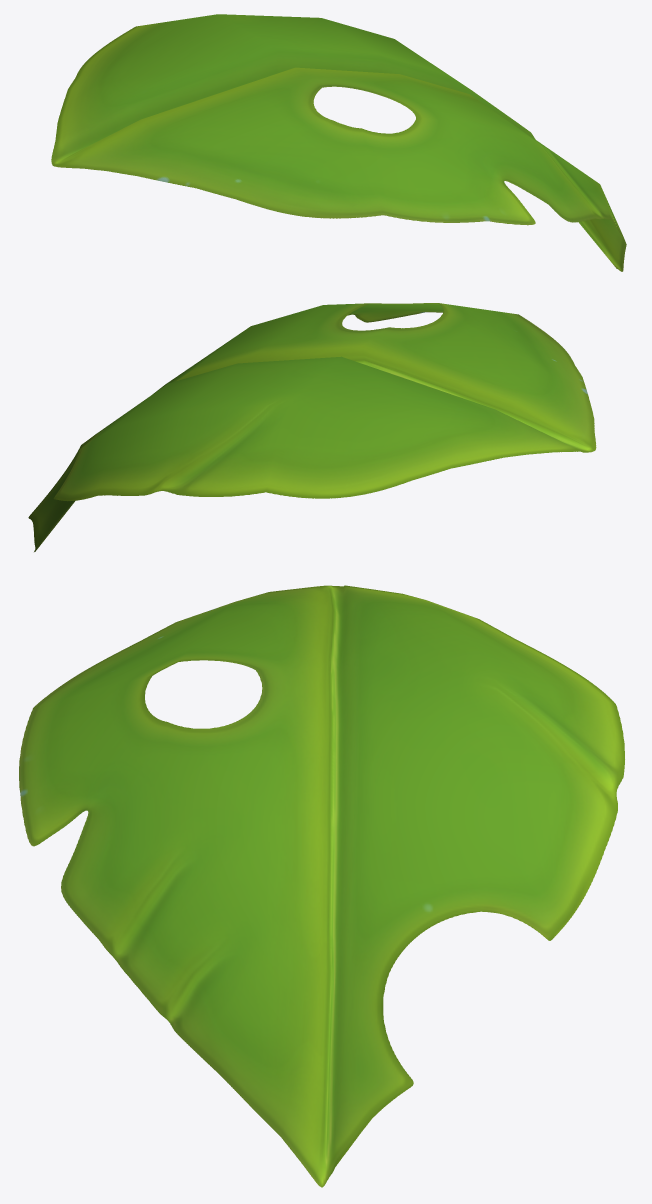
Rendered from Leaf.fbx.
3 views of the same model, one above another, from view 1: azimuth 30°, elevation 25°; view 2: azimuth 150°, elevation 25°; view 3: azimuth 270°, elevation 25° (orthographic). The views are drawn at different scales.
Visible parts, largest first — view 1: Leaf_lp; view 2: Leaf_lp; view 3: Leaf_lp.
Boxes of the visible parts, bbox=[...] form: Leaf_lp: bbox=[51, 14, 626, 271]; Leaf_lp: bbox=[28, 303, 596, 551]; Leaf_lp: bbox=[19, 585, 624, 1187].
Size of the model in its own units: 242 by 117 by 197.
1 material, 1 textured.
